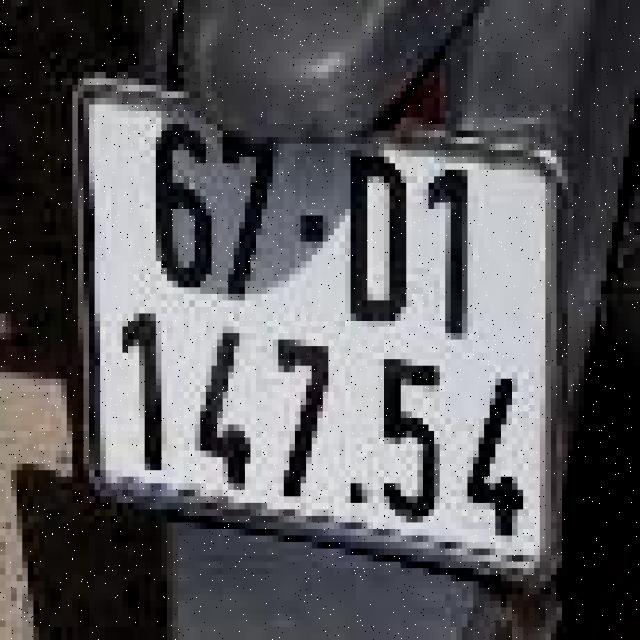1: (420, 137, 493, 346), (108, 294, 176, 490)
4: (454, 353, 554, 555), (186, 316, 259, 499)
5: (373, 340, 445, 542)
6: (147, 108, 220, 297)
7: (262, 323, 340, 513), (220, 108, 270, 310)
D: (331, 137, 420, 333)
